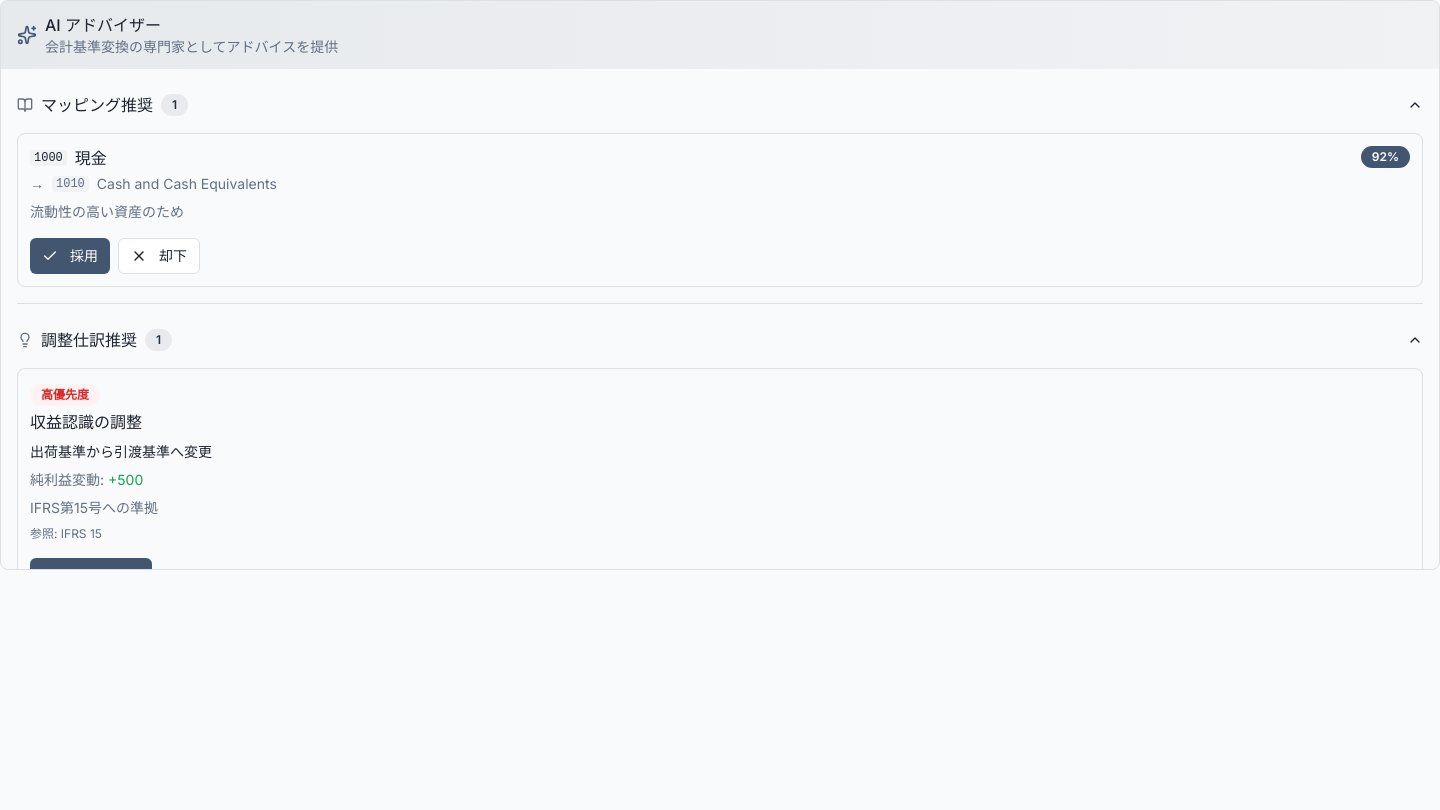
conversion/ai-advisor-panel — collapsible sections › collapses and re-expands a single section without affecting the others
Click the button "マッピング推奨 1".
click(97, 105)  # box [17,85,1423,125]
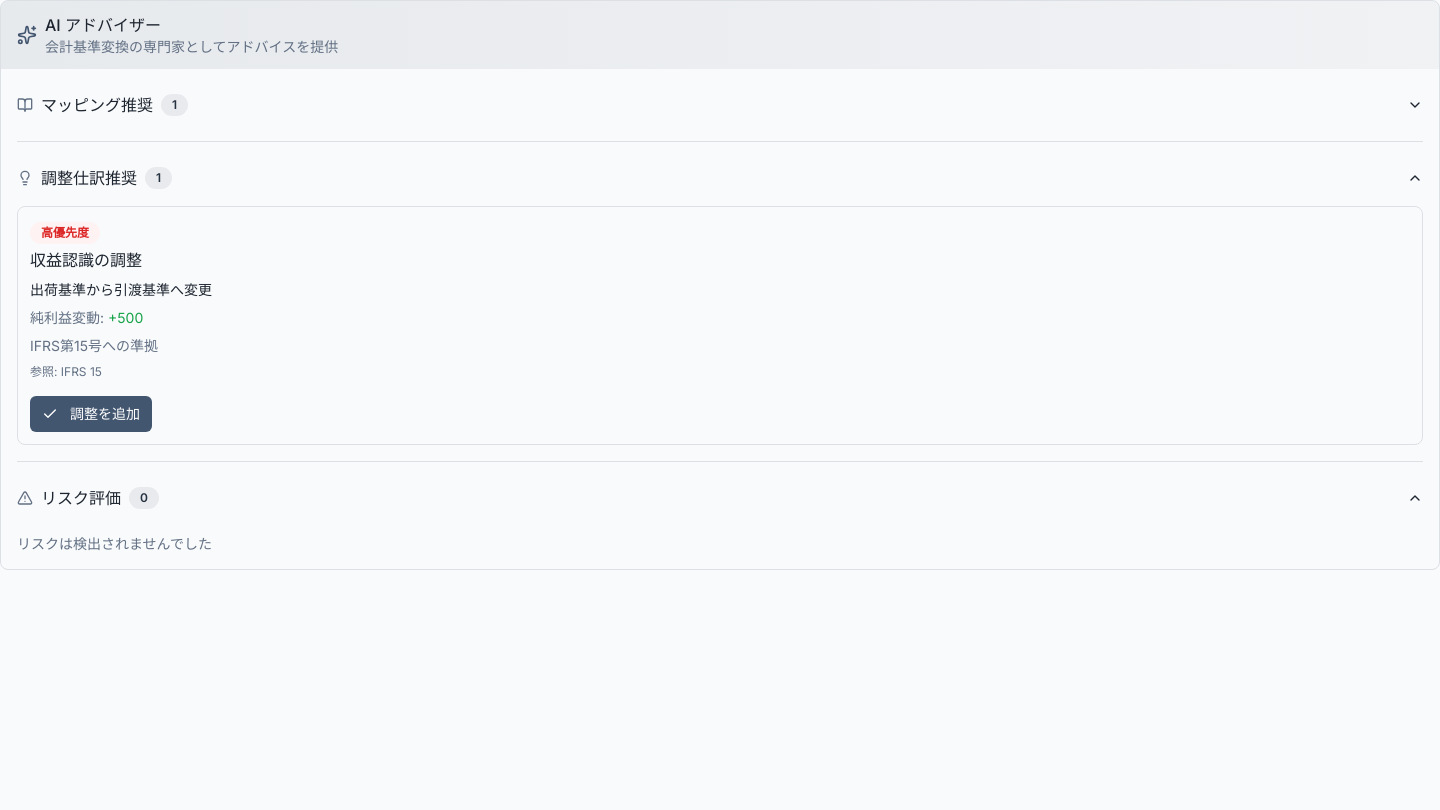
Now the button "マッピング推奨 1" is collapsed
Click the button "マッピング推奨 1".
click(97, 105)  # box [17,85,1423,125]
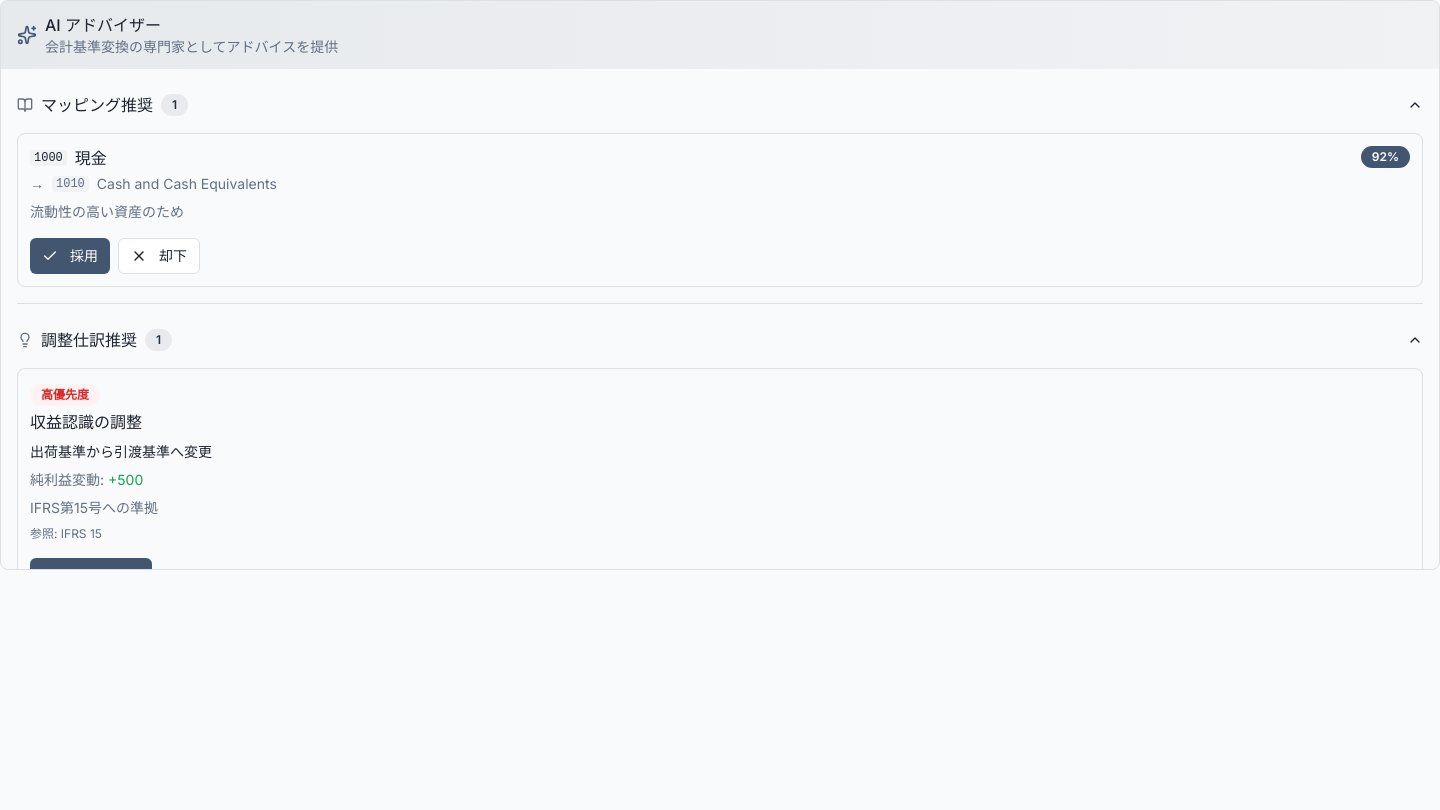
Now the button "マッピング推奨 1" is expanded, box [17,85,1423,125]
